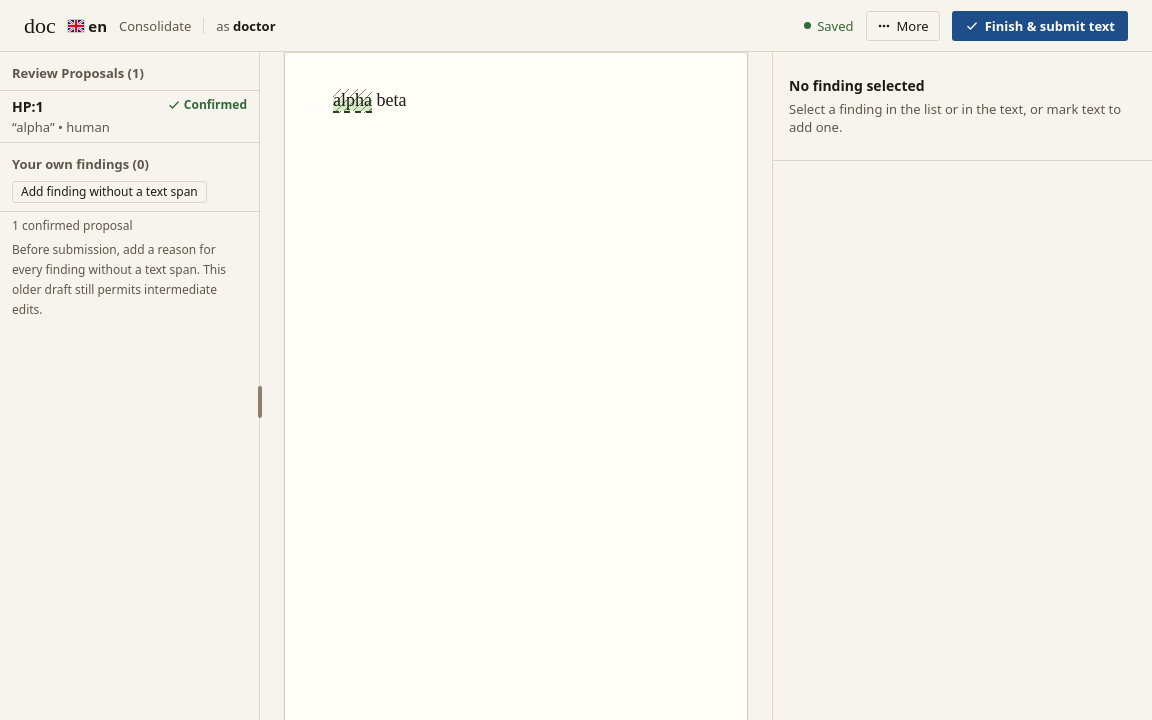
Workflow Regressions › allows clearing an existing review decision back to offen
Click the text "HP:1" at point(28, 106), box [12,97,44,116]
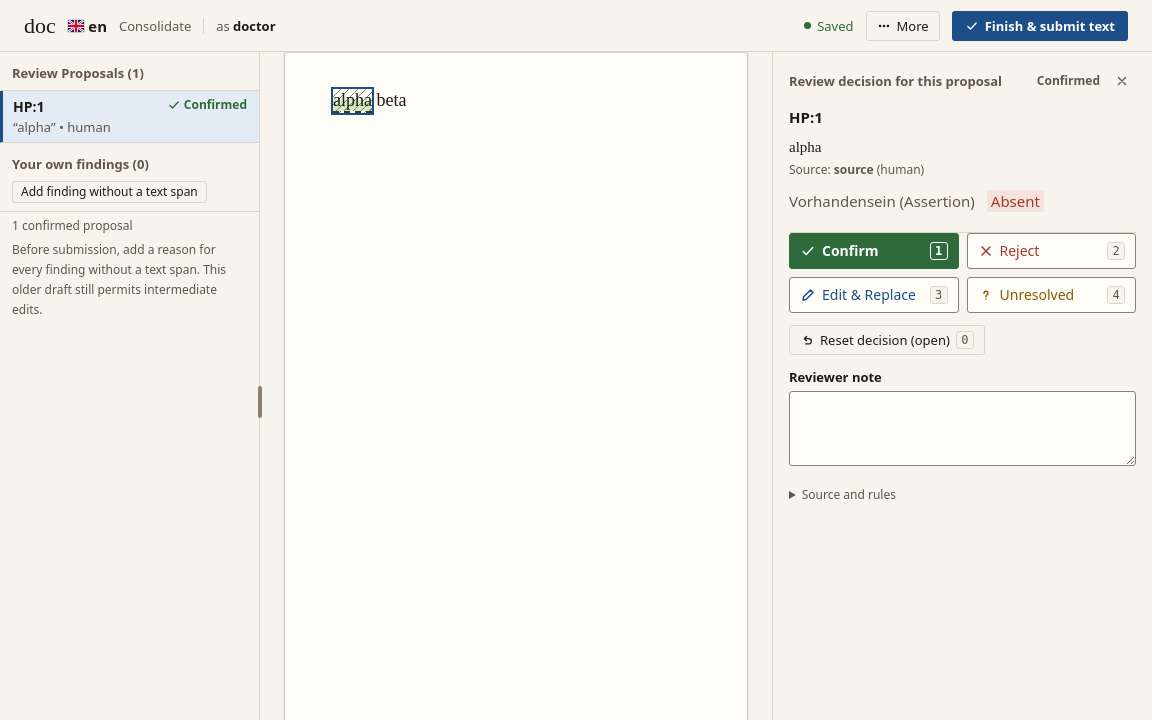
Expected: the text "Confirmed" below "Review Proposals" is shown, [184,96,247,113]
Click the button "Reset decision (open) 0" at point(887, 340), box [789,325,985,355]
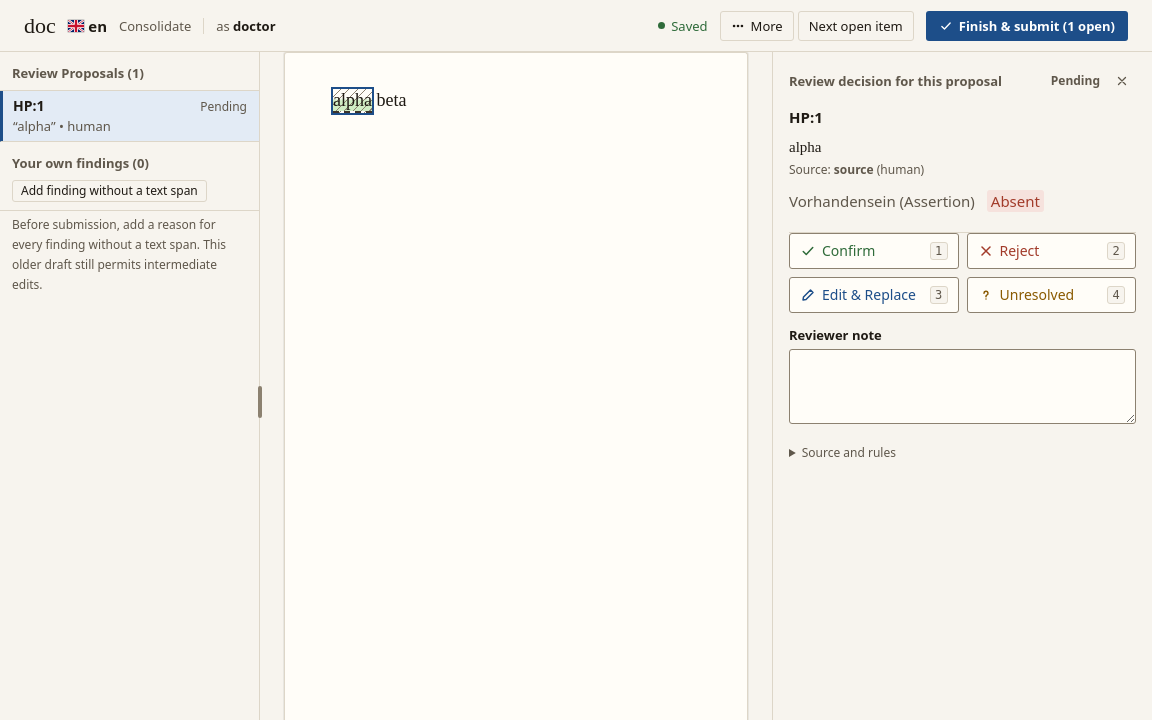
Now the text "Pending" below "Review Proposals" is shown, box [200,98,247,115]
